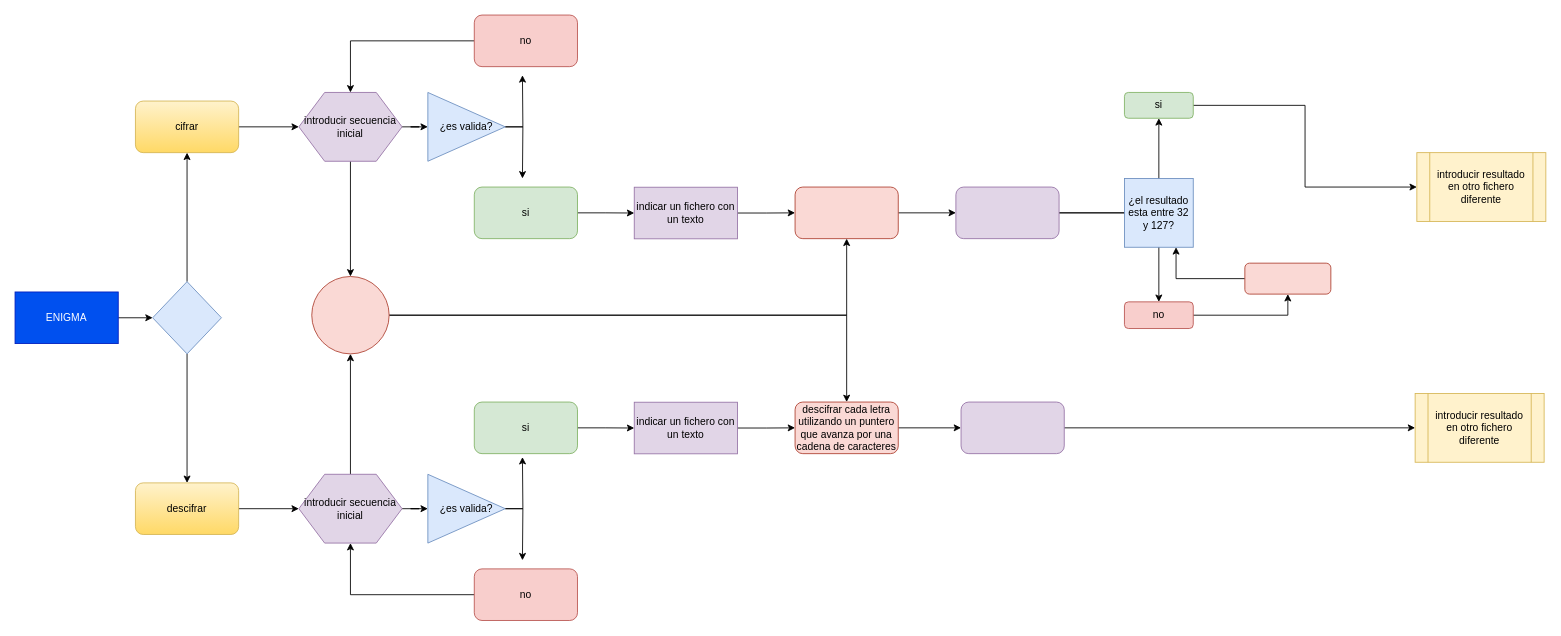
This 1561x636 diagram has some shape labels left out. The shapes that lost their labels are listed below. From the top down, each one's centre as x and y in pixels, then its label:
pixel 846 212: cifrar cada letra utilizando un puntero que avanza por una cadena de caracteres
pixel 1007 212: realizar la operacion: (num+a+b)*c
pixel 1287 278: restar 127
pixel 186 317: escoger una opcion
pixel 350 315: las rueda giran tras cada carcter
pixel 1012 427: deshacer el cifrado
